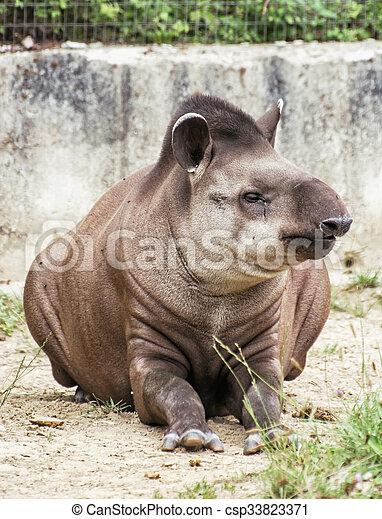Anta: (16, 88, 363, 463)
